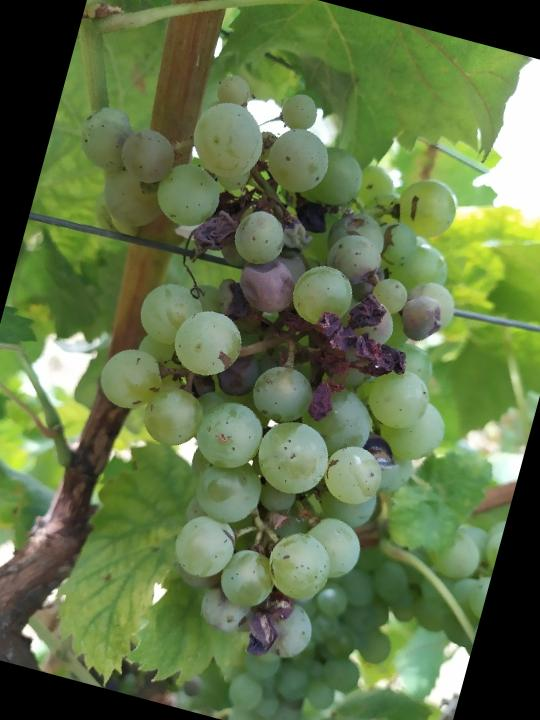grape: (0, 38, 523, 692)
